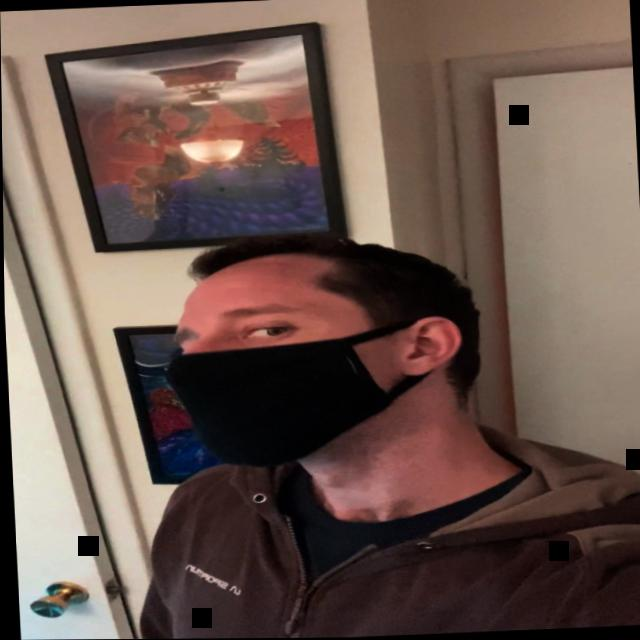Mask: (151, 244, 461, 475)
